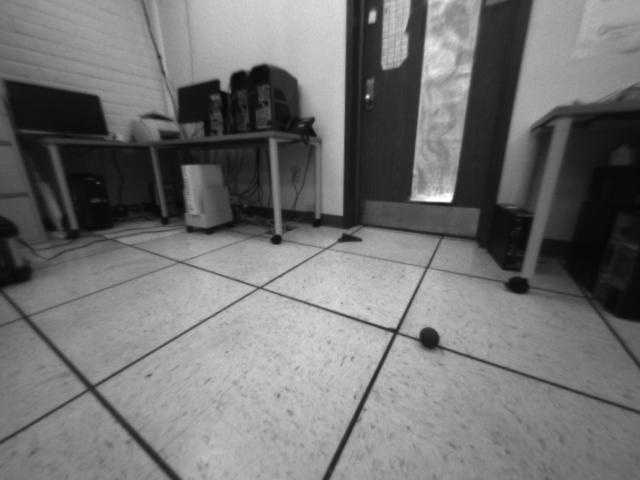dogtoy: (414, 322, 445, 353)
